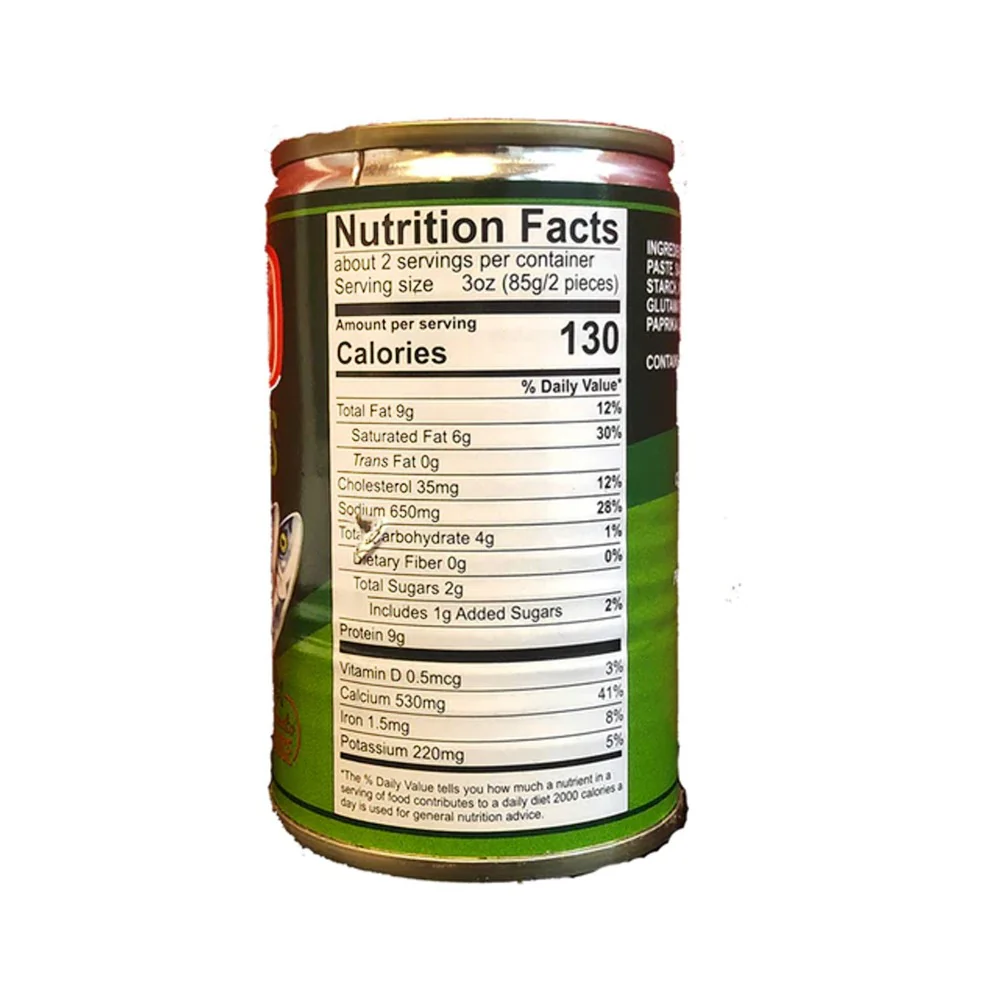non-toxic_waste: (256, 141, 706, 869)
